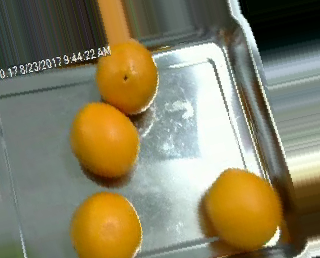Orange: (202, 168, 279, 250), (70, 102, 141, 179), (69, 190, 142, 258)
